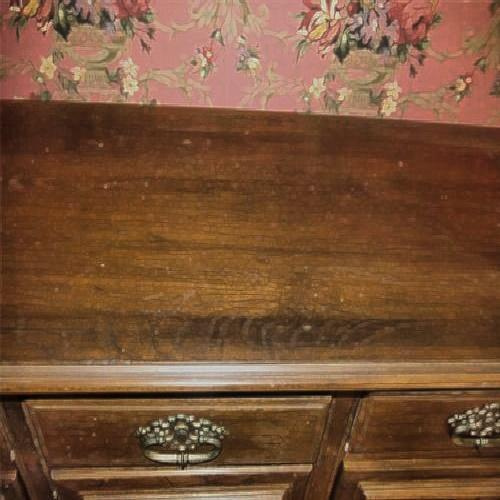cabinet: (19, 94, 483, 478)
